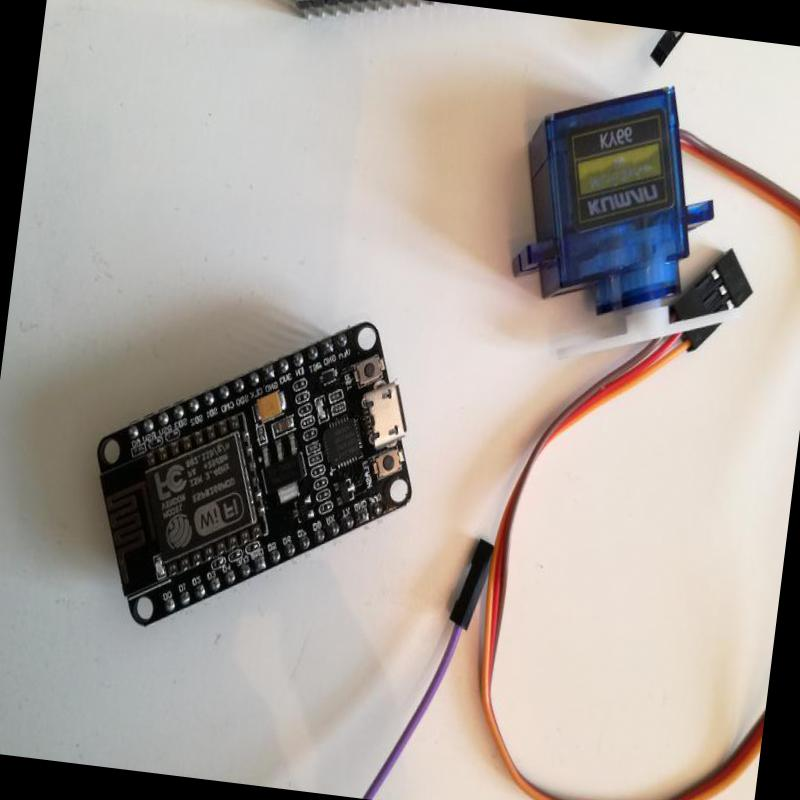ESP8266: (74, 285, 437, 667)
